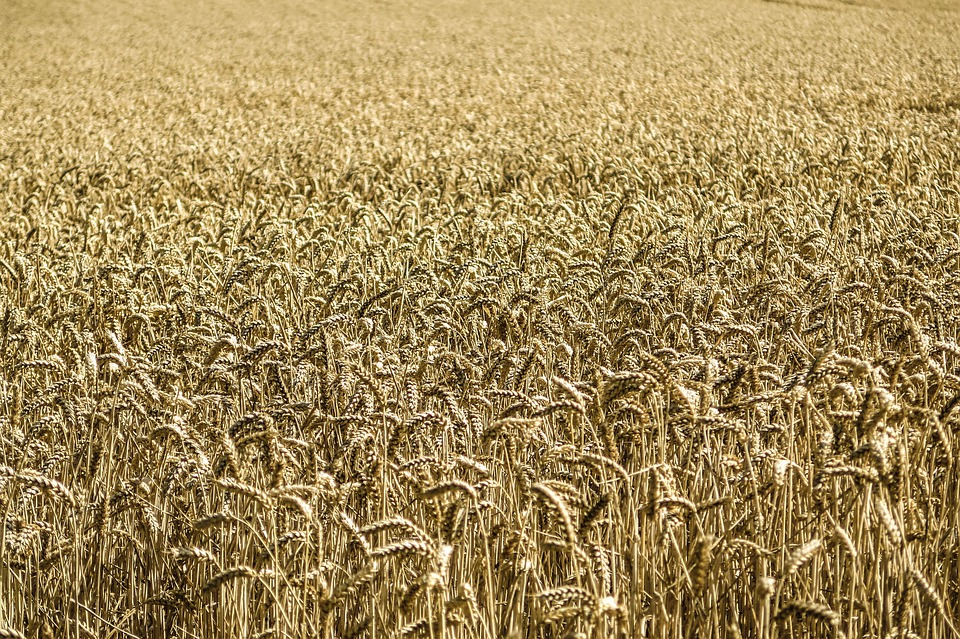Wheat: (97, 331, 832, 639)
